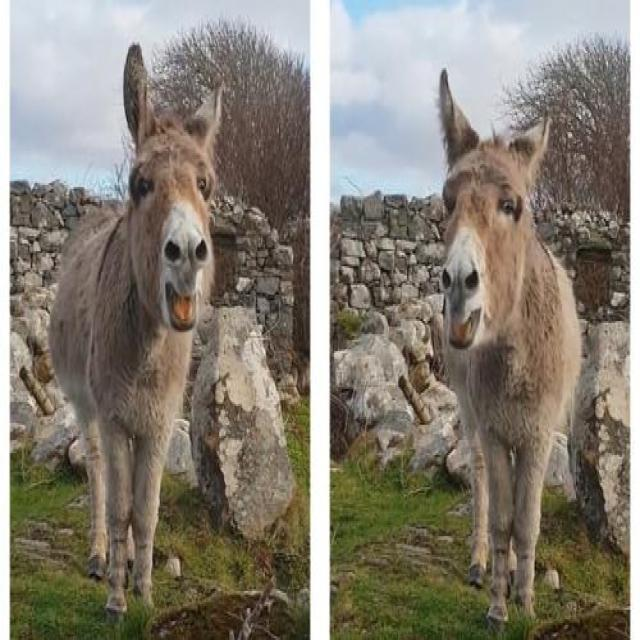Donkey: (48, 39, 221, 618), (437, 68, 581, 626)
